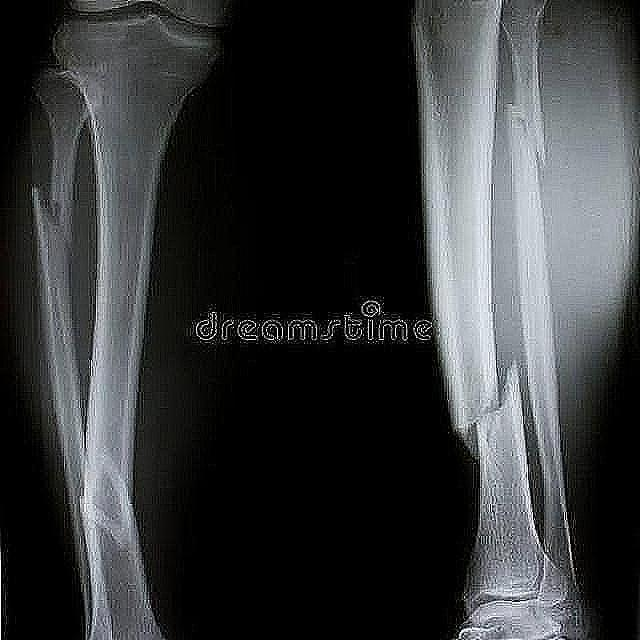bone: (438, 345, 528, 482), (23, 180, 82, 266), (501, 89, 554, 179)
